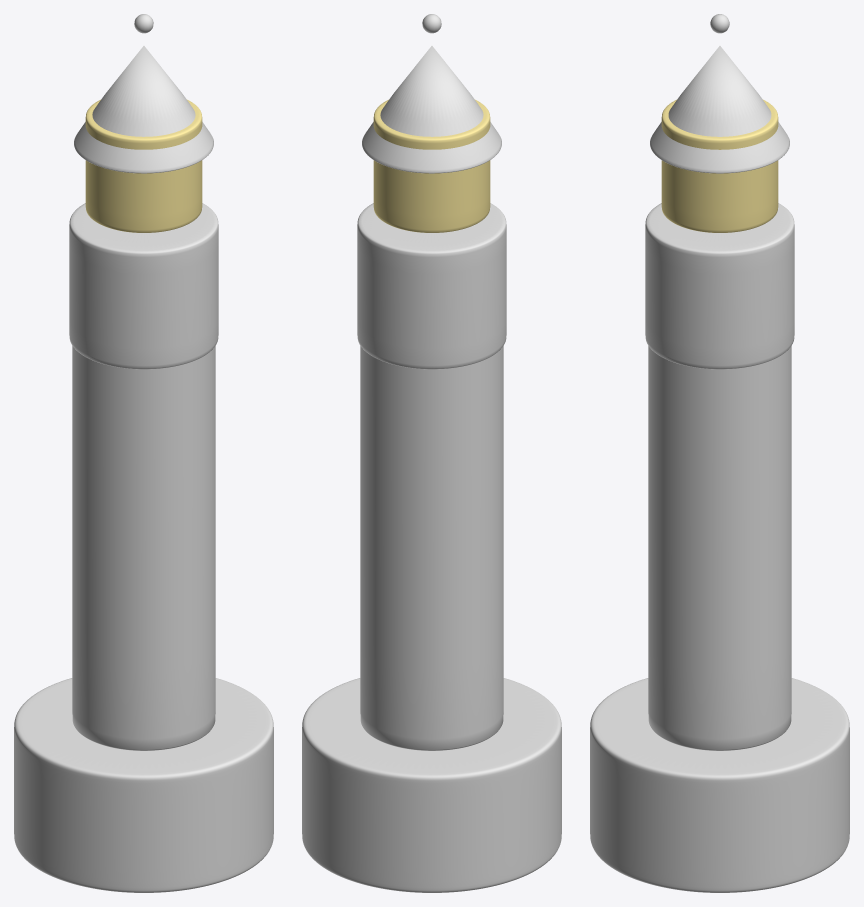
The model's file is leuchtturm_premium_lod0.fbx.
3 renders of one model, left to right at view 1: azimuth 30°, elevation 25°; view 2: azimuth 150°, elevation 25°; view 3: azimuth 270°, elevation 25°, orthographic.
Parts seen in each view (by area): view 1: Leuchtturm_Turm, Leuchtturm_Sockel, Leuchtturm_Ring_Weiss, Leuchtturm_Dach, Leuchtturm_Laterne; view 2: Leuchtturm_Turm, Leuchtturm_Sockel, Leuchtturm_Ring_Weiss, Leuchtturm_Dach, Leuchtturm_Laterne; view 3: Leuchtturm_Turm, Leuchtturm_Sockel, Leuchtturm_Ring_Weiss, Leuchtturm_Dach, Leuchtturm_Laterne.
Boxes of the visible parts, bbox=[...] form: Leuchtturm_Turm: bbox=[72, 346, 215, 750]; Leuchtturm_Sockel: bbox=[14, 678, 273, 892]; Leuchtturm_Ring_Weiss: bbox=[69, 203, 218, 369]; Leuchtturm_Dach: bbox=[74, 46, 213, 173]; Leuchtturm_Laterne: bbox=[85, 99, 202, 232]; Leuchtturm_Turm: bbox=[360, 346, 503, 750]; Leuchtturm_Sockel: bbox=[302, 678, 561, 892]; Leuchtturm_Ring_Weiss: bbox=[357, 203, 506, 369]; Leuchtturm_Dach: bbox=[362, 46, 501, 173]; Leuchtturm_Laterne: bbox=[373, 99, 490, 232]; Leuchtturm_Turm: bbox=[648, 346, 791, 750]; Leuchtturm_Sockel: bbox=[590, 678, 849, 892]; Leuchtturm_Ring_Weiss: bbox=[645, 203, 794, 369]; Leuchtturm_Dach: bbox=[650, 46, 789, 173]; Leuchtturm_Laterne: bbox=[661, 99, 778, 232].
Size of the model in its own units: 4 by 14 by 4.
